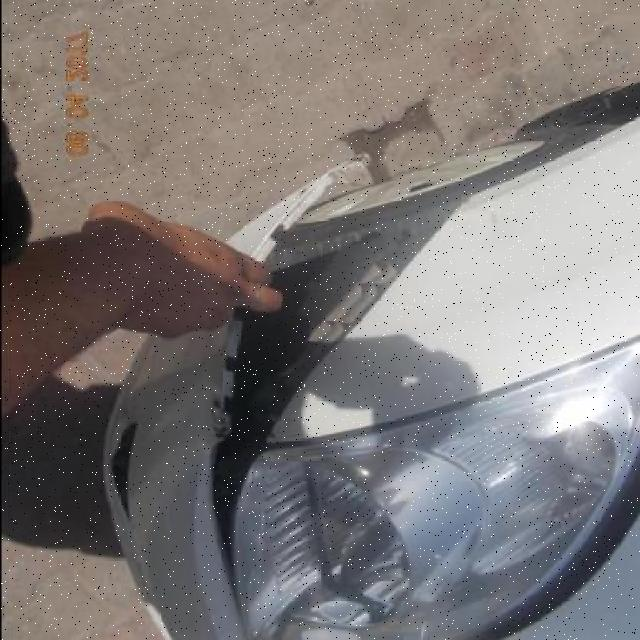damage: (197, 147, 479, 622)
